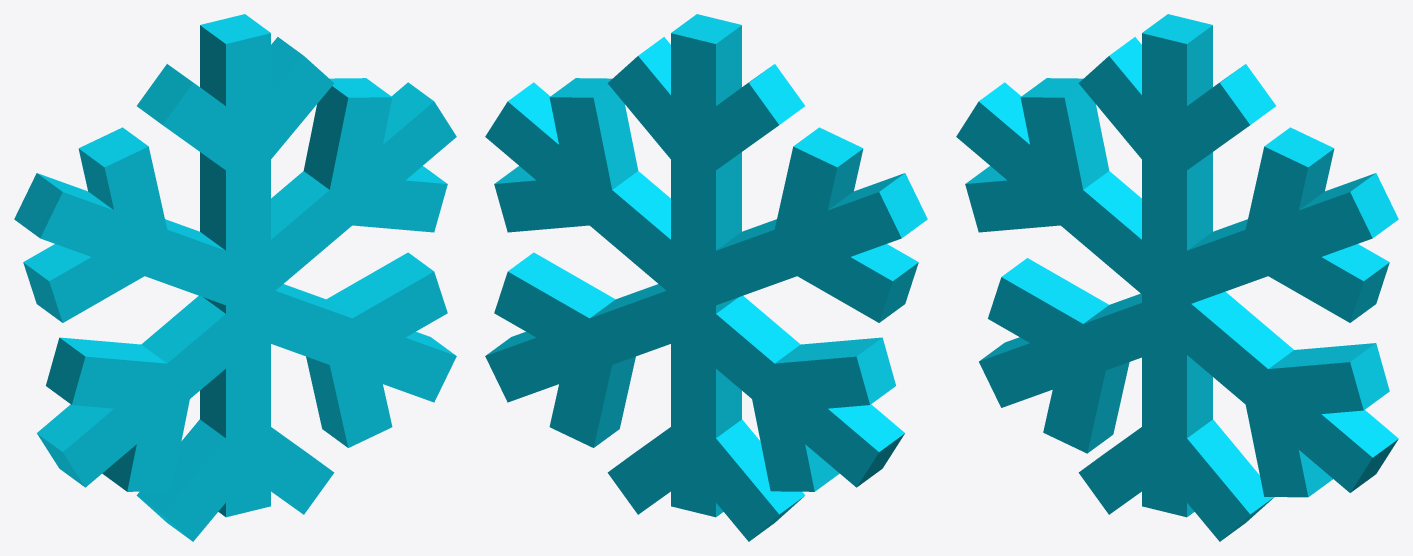
Rendered from snowflake.fbx.
3 renders of one model, left to right at view 1: azimuth 30°, elevation 25°; view 2: azimuth 150°, elevation 25°; view 3: azimuth 330°, elevation 25°, orthographic.
Parts seen in each view (by area): view 1: cube, cube_10, cube_16, cube_13, cube_7, cube_4, cube_5, cube_11, cube_6, cube_12, cube_14, cube_17 (+6 smaller); view 2: cube, cube_10, cube_16, cube_13, cube_4, cube_7, cube_11, cube_5, cube_6, cube_12, cube_17, cube_3 (+6 smaller); view 3: cube, cube_4, cube_13, cube_10, cube_7, cube_16, cube_14, cube_5, cube_17, cube_9, cube_8, cube_15 (+6 smaller).
Part boxes in pixels (x1=…): cube: x1=200, y1=14, x2=270, y2=280; cube_10: x1=238, y1=82, x2=456, y2=297; cube_16: x1=37, y1=296, x2=280, y2=487; cube_13: x1=14, y1=173, x2=247, y2=308; cube_7: x1=200, y1=276, x2=270, y2=517; cube_4: x1=260, y1=284, x2=456, y2=402; cube_5: x1=326, y1=252, x2=447, y2=361; cube_11: x1=303, y1=78, x2=392, y2=193; cube_6: x1=136, y1=419, x2=259, y2=541; cube_12: x1=23, y1=232, x2=148, y2=322; cube_14: x1=78, y1=127, x2=167, y2=254; cube_17: x1=46, y1=337, x2=166, y2=408; cube: x1=671, y1=14, x2=741, y2=280; cube_10: x1=485, y1=82, x2=703, y2=302; cube_16: x1=684, y1=291, x2=904, y2=487; cube_13: x1=684, y1=173, x2=927, y2=308; cube_4: x1=485, y1=284, x2=699, y2=402; cube_7: x1=671, y1=279, x2=741, y2=517; cube_11: x1=549, y1=78, x2=638, y2=194; cube_5: x1=494, y1=252, x2=615, y2=360; cube_6: x1=682, y1=419, x2=805, y2=541; cube_12: x1=793, y1=232, x2=918, y2=322; cube_17: x1=775, y1=337, x2=895, y2=412; cube_3: x1=549, y1=340, x2=635, y2=447; cube: x1=1142, y1=14, x2=1212, y2=280; cube_4: x1=1154, y1=291, x2=1398, y2=492; cube_13: x1=956, y1=82, x2=1173, y2=302; cube_10: x1=1154, y1=173, x2=1398, y2=308; cube_7: x1=1142, y1=279, x2=1212, y2=517; cube_16: x1=979, y1=293, x2=1170, y2=407; cube_14: x1=1020, y1=78, x2=1109, y2=194; cube_5: x1=1264, y1=343, x2=1389, y2=416; cube_17: x1=988, y1=258, x2=1108, y2=366; cube_9: x1=1264, y1=232, x2=1389, y2=322; cube_8: x1=1154, y1=419, x2=1274, y2=541; cube_15: x1=1043, y1=345, x2=1129, y2=453.
Size of the model in its own units: 57.59 by 64.69 by 6.25.
